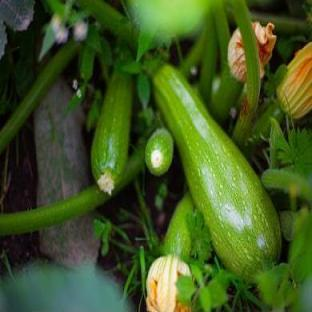Zucchini: (154, 65, 281, 279), (92, 71, 132, 194), (163, 192, 194, 257), (145, 129, 173, 176)
